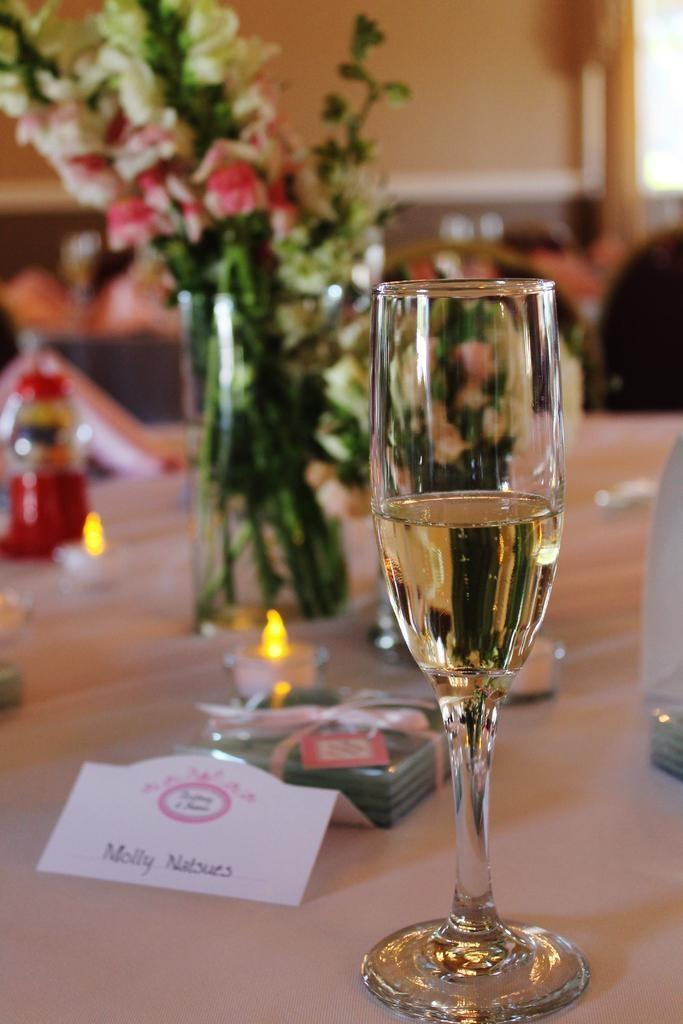glass-wine: (359, 274, 591, 1023)
